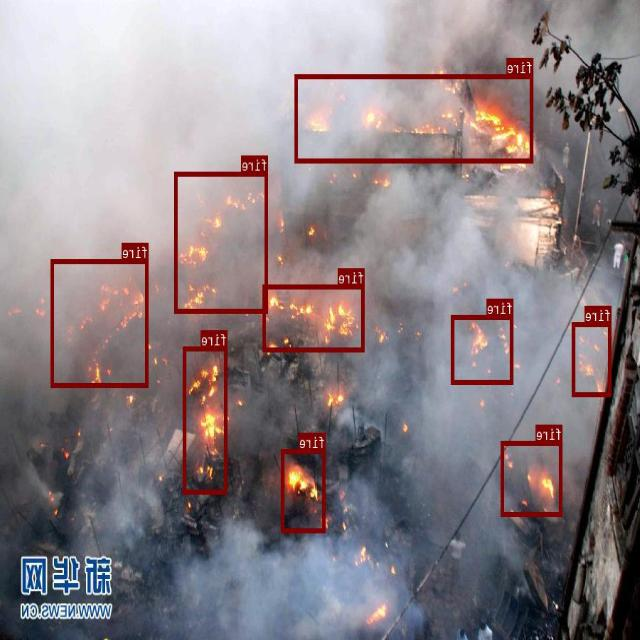fire: (296, 74, 534, 162), (176, 172, 268, 312), (51, 259, 149, 386), (264, 284, 365, 351), (184, 346, 228, 493), (502, 440, 563, 516), (452, 314, 514, 383), (282, 448, 326, 532), (573, 322, 612, 396)
